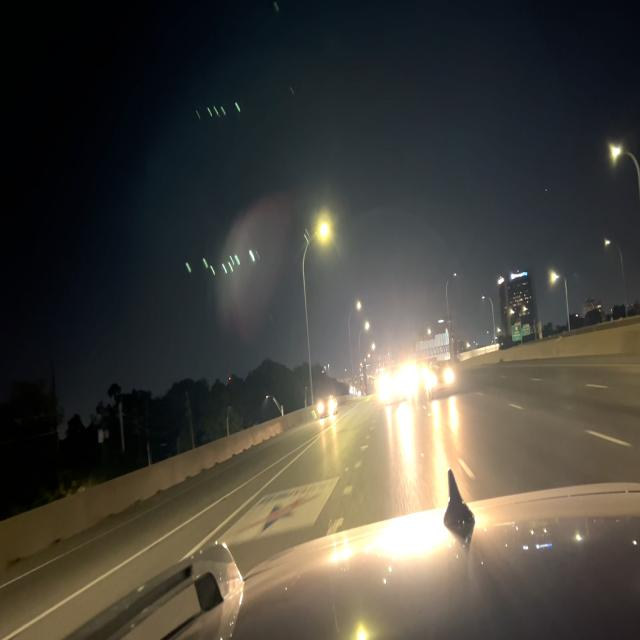back-of-sign: (416, 330, 451, 365)
